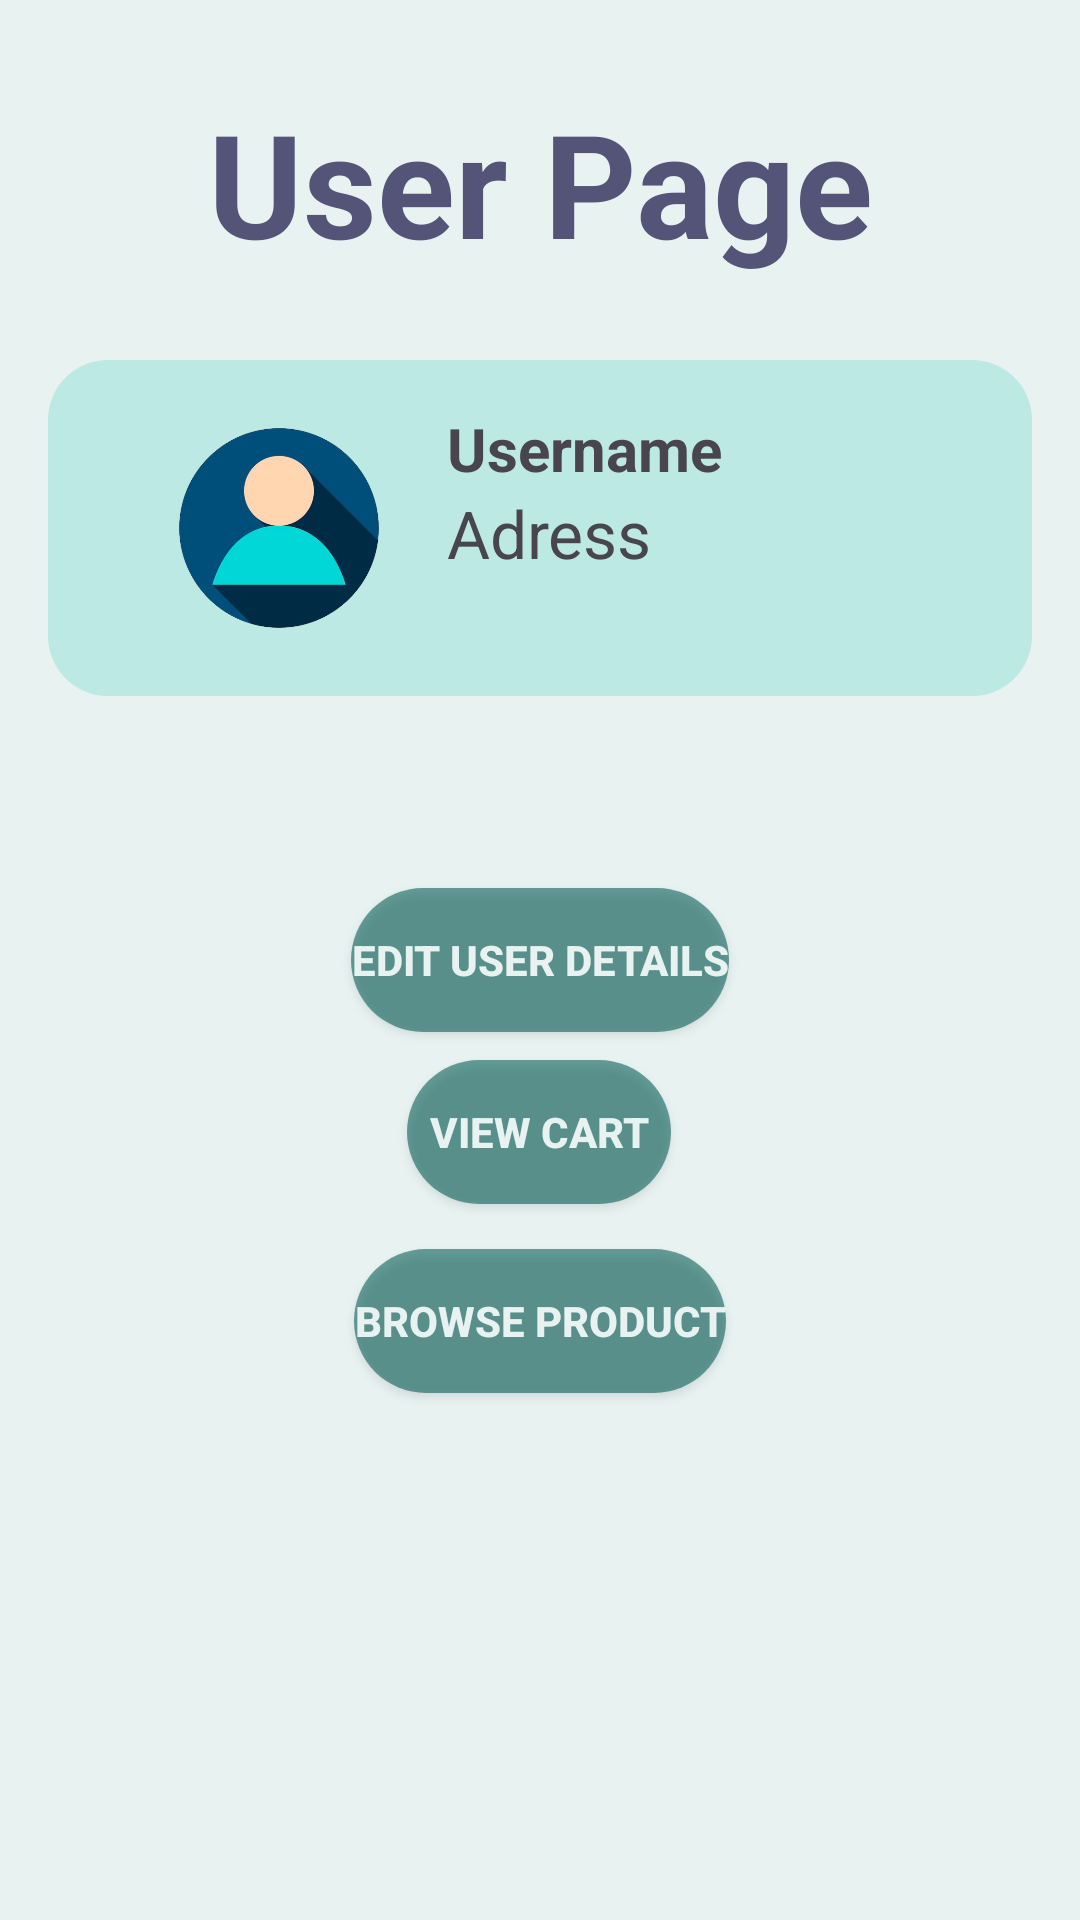

Named icons in this screenshot (1080 x 1920) and their centers, (x=x, y=y):
userimg: (x=279, y=528)
